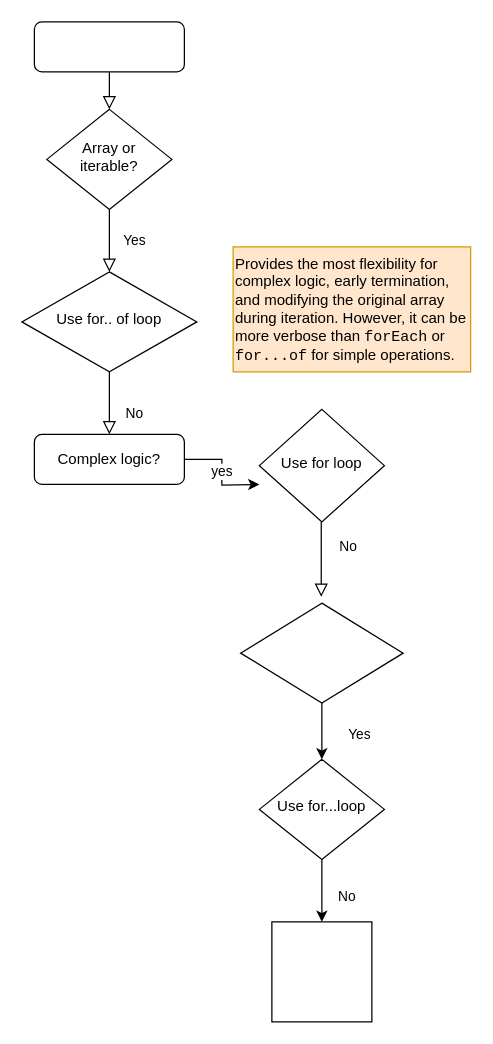
Some shapes in this 493 by 1044 pixel diagram are drawn without their labels. Here are the shapes that lost their labels. From the top down, the centre of each, then its label:
the point at 108,46: Start
the point at 321,652: Need to modify original array?
the point at 321,971: Use forEach loop
